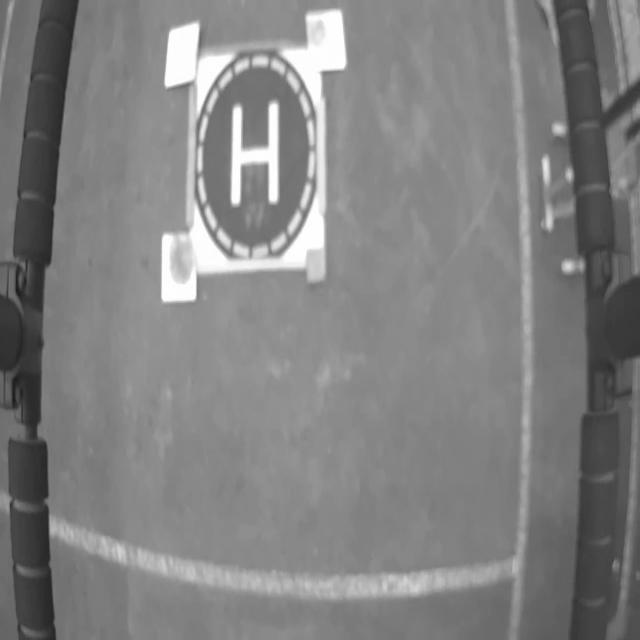Helipad: (229, 101, 279, 210)
